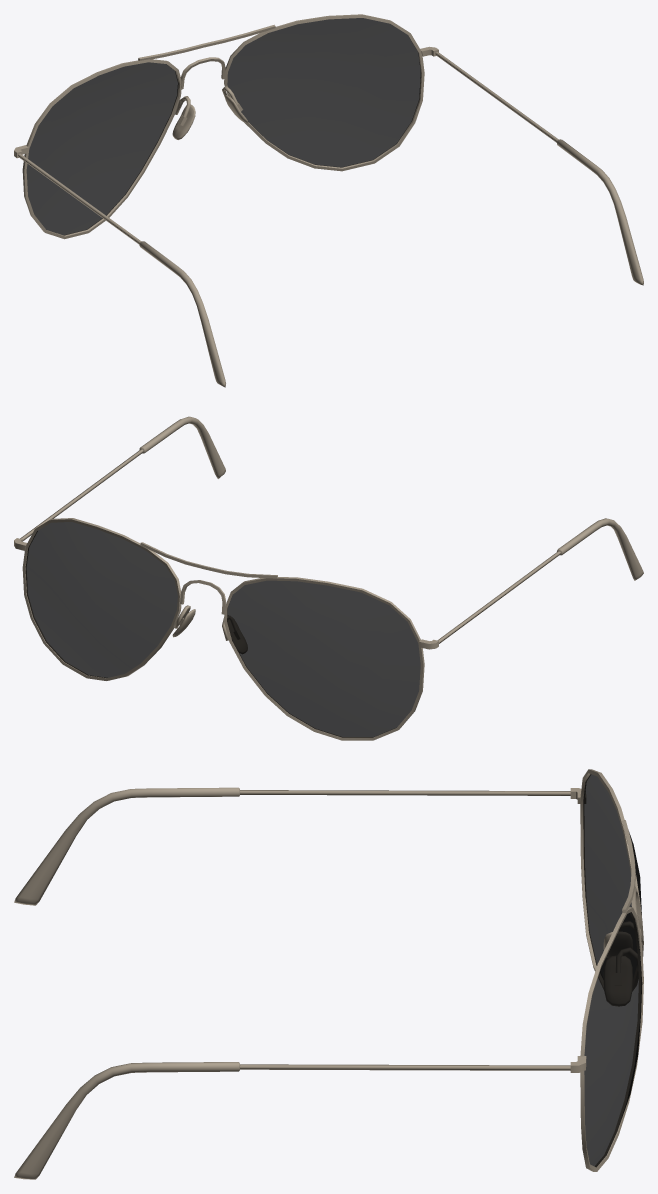
The model's file is shades.gltf.
The picture shows the model from 3 angles, top to bottom: view 1: azimuth 30°, elevation 25°; view 2: azimuth 150°, elevation 25°; view 3: azimuth 270°, elevation 25°; orthographic projection. The views are drawn at different scales.
Parts seen in each view (by area): view 1: shades; view 2: shades; view 3: shades.
Boxes of the visible parts, box(x1,y1,x2,y2) form: shades: box(14, 14, 643, 387); shades: box(14, 416, 643, 740); shades: box(14, 769, 643, 1179).
Size of the model in its own units: 1.74 by 0.6148 by 1.66.
